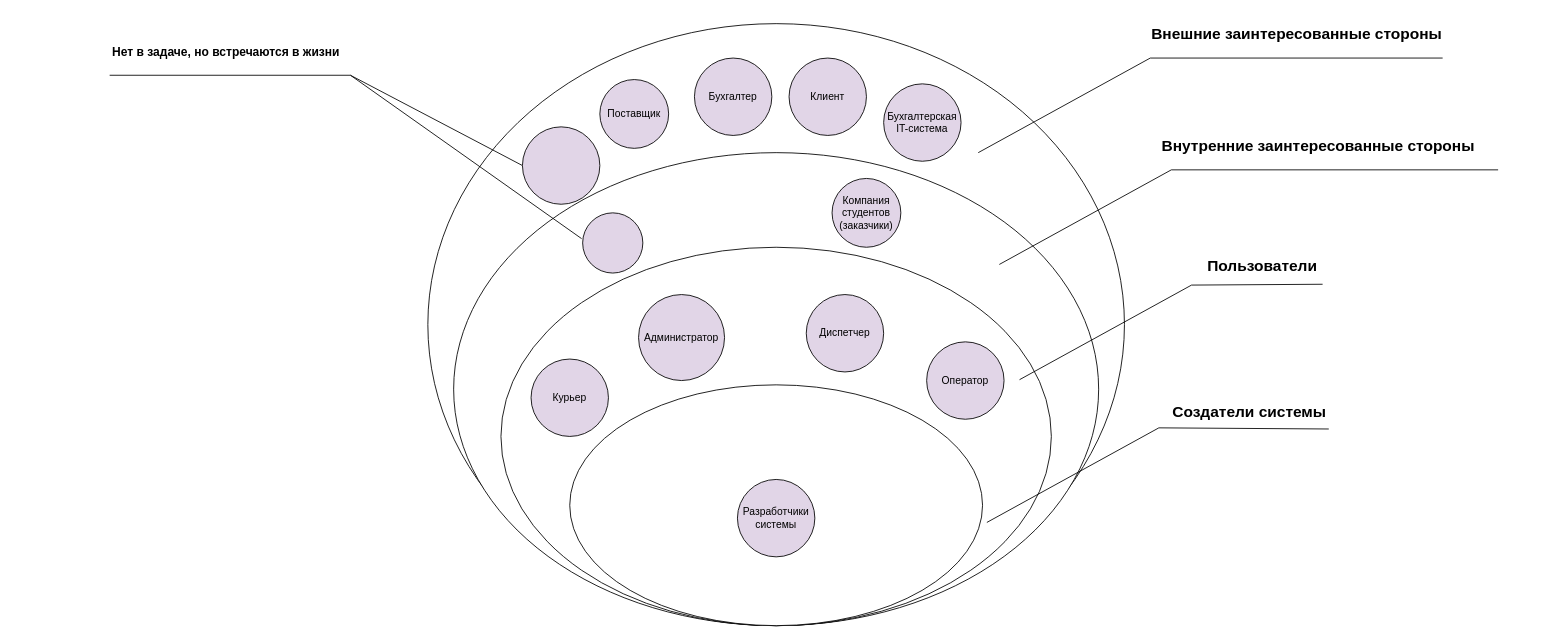
The diagram is 1551 pixels wide and 641 high, and some of its shapes have lost their labels. Each missing label, with the centre of its shape:
"Конкуренты" belongs at (x=561, y=165).
"Маркетолог" belongs at (x=612, y=242).
